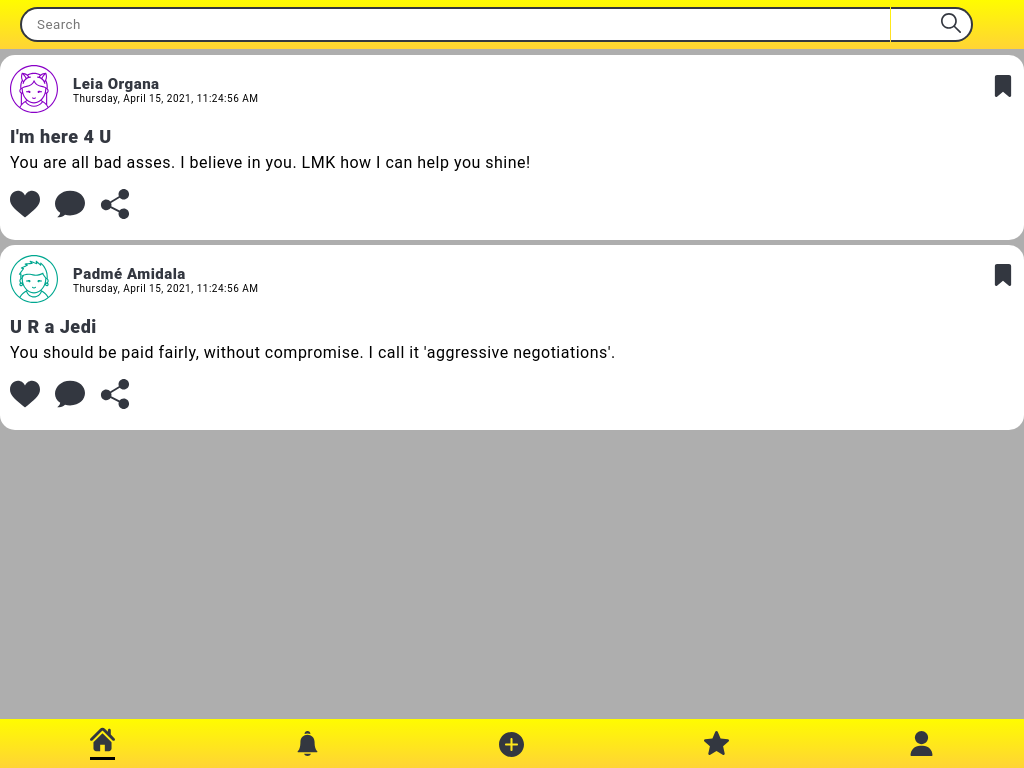
Test: Expanded Post View › Should prompt a user to leave a reply if there are no replies
Click the picture with test id "expanded-view-button" below "U R a Jedi".
click(70, 394)  # box [55,379,85,409]
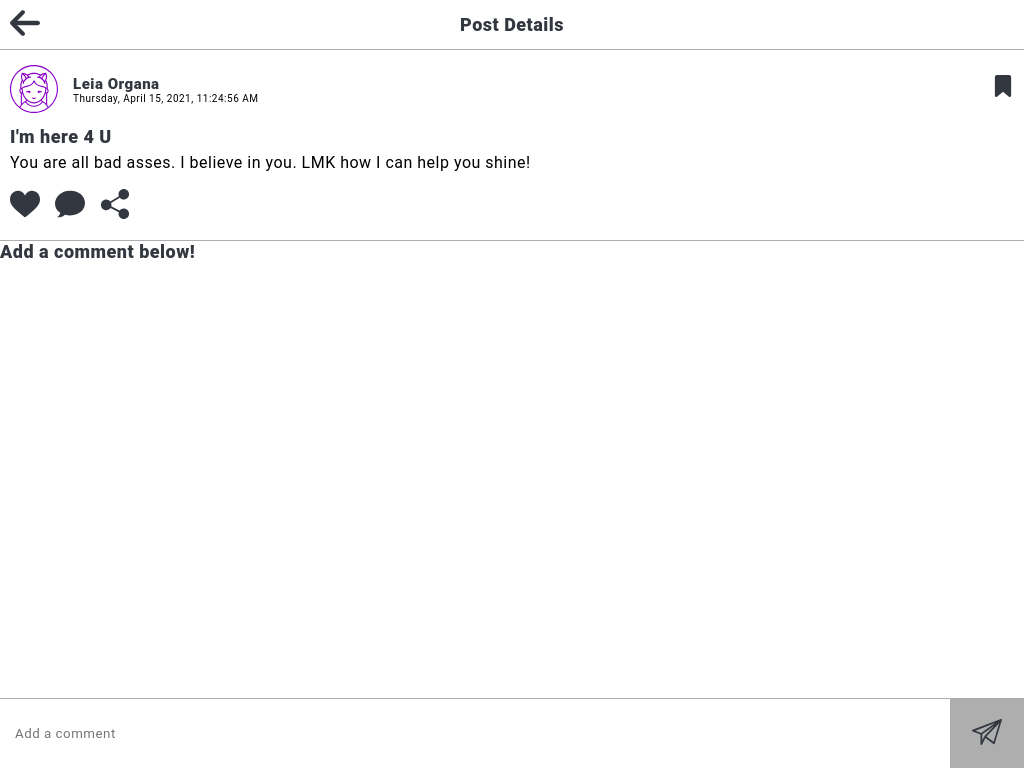
Expected: the heading "Add a comment below!" is shown, [0,241,195,262]
